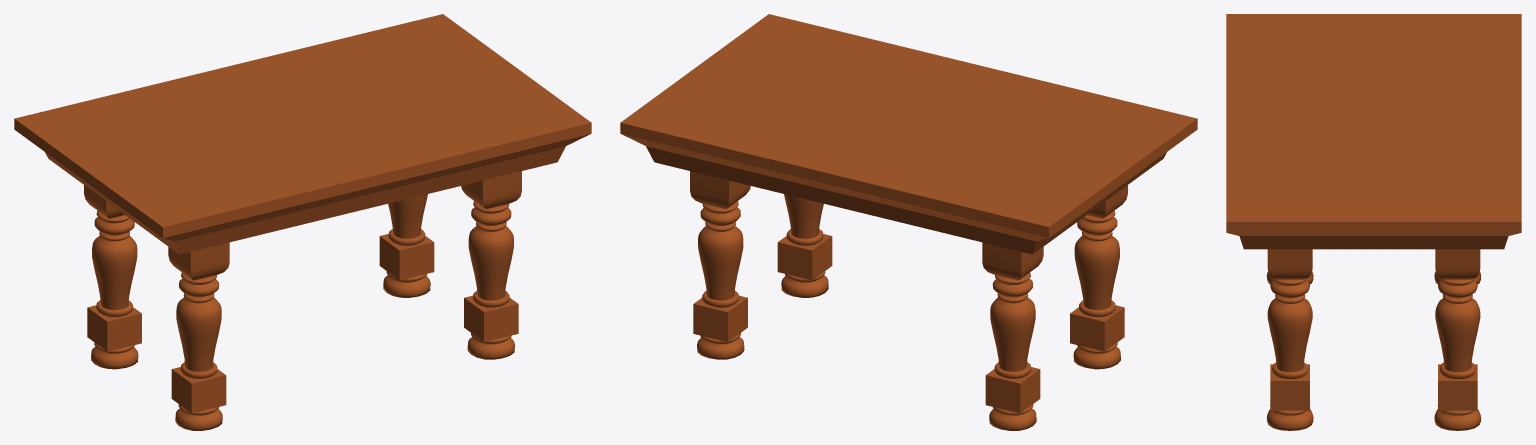
File: Table.fbx
3 renders of one model, left to right at view 1: azimuth 30°, elevation 25°; view 2: azimuth 150°, elevation 25°; view 3: azimuth 270°, elevation 25°, orthographic.
Visible parts, largest first — view 1: Table; view 2: Table; view 3: Table.
Boxes of the visible parts, box(x1,y1,x2,y2) form: Table: box(14, 14, 591, 430); Table: box(620, 14, 1197, 430); Table: box(1226, 14, 1521, 430).
Bounding box in the file's own units: 1320 × 691 × 792.
